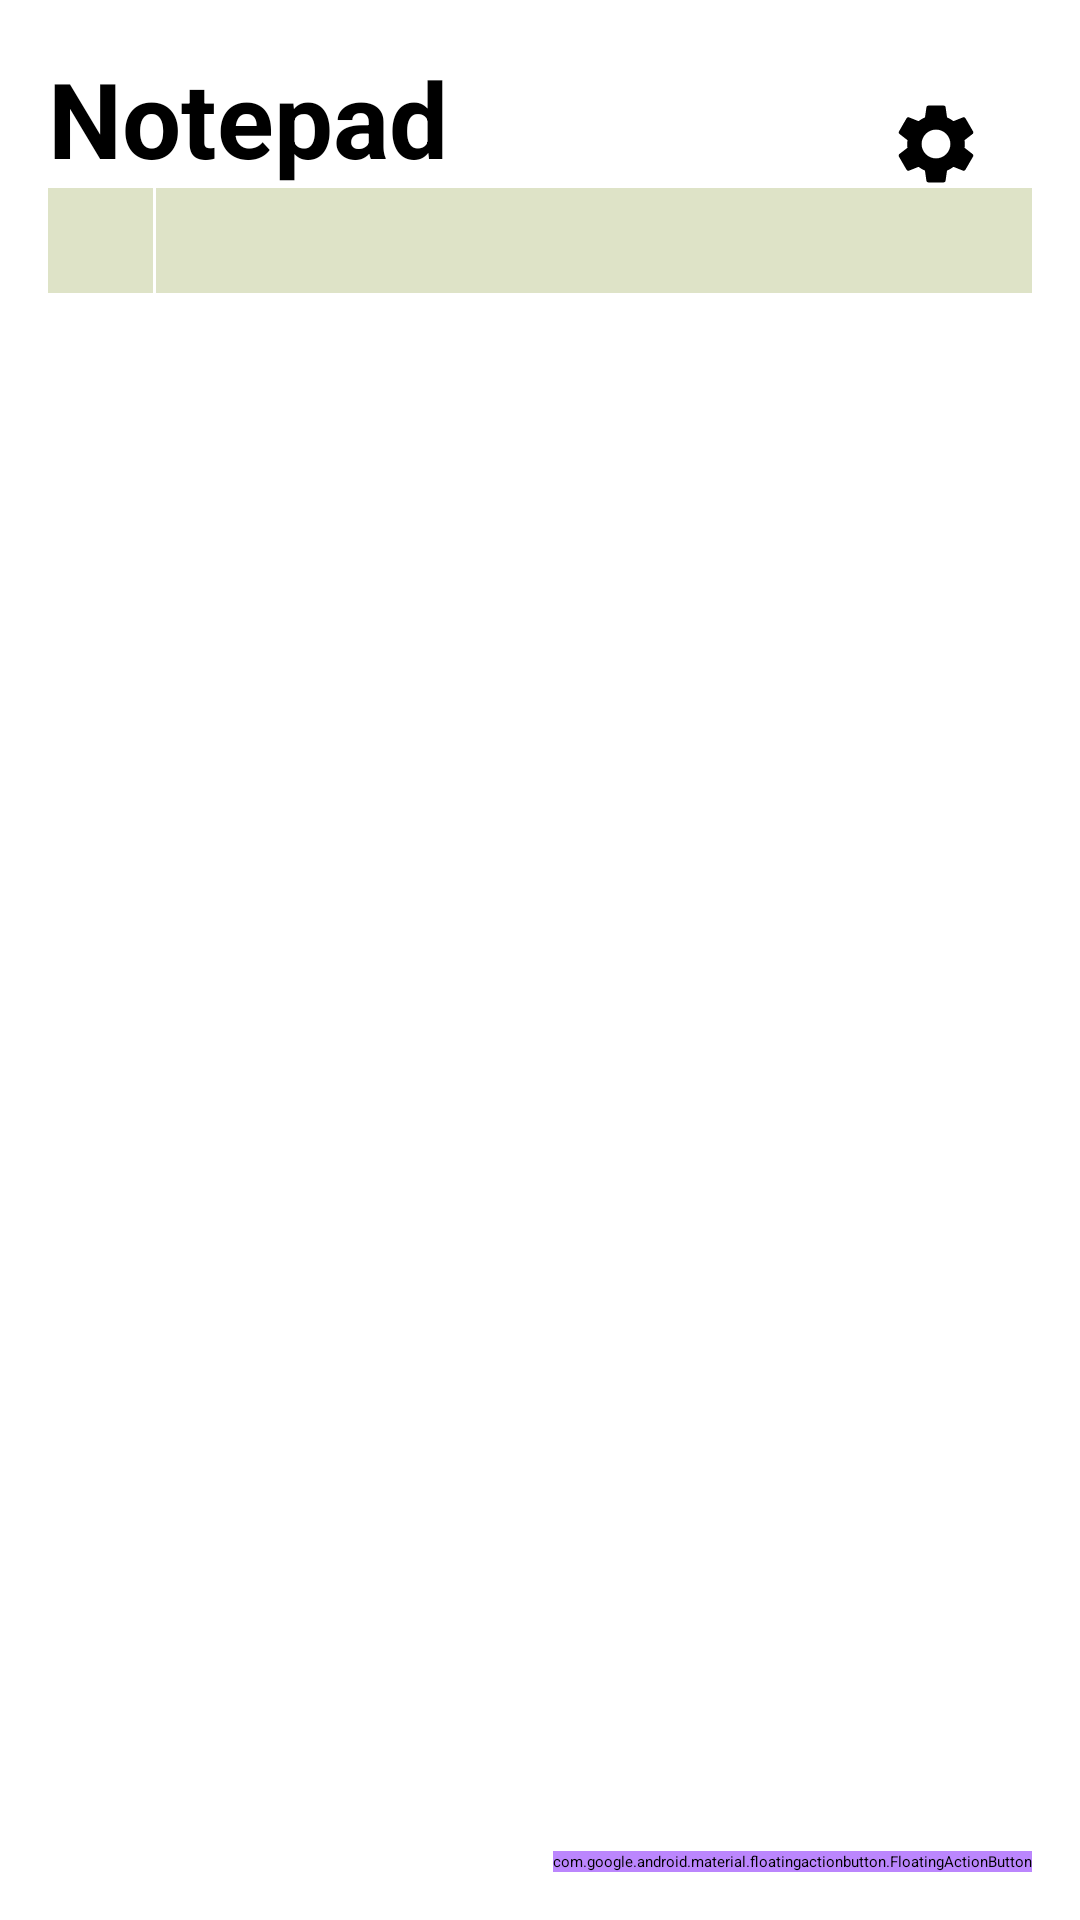

Named icons in this screenshot (1080w x 1920h) and their bounding boxes, Rect(x1, y1, x2, y2):
settings: Rect(898, 105, 974, 183)
